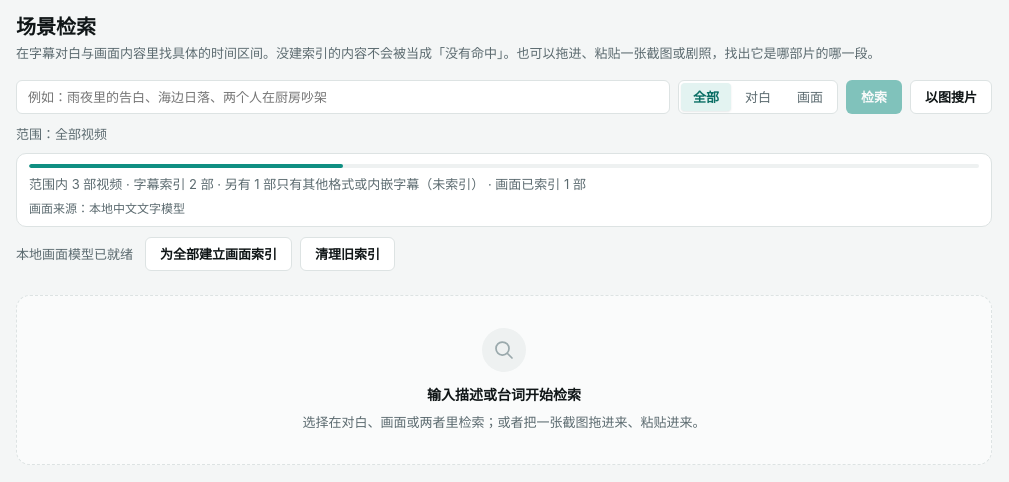
场景检索页（D-MW-SCENES） › 请求代次：晚到的旧结果直接丢弃
The image size is (1009, 482).
Step 1. Type "旧的" into the search field with test id "scenes-query" → (343, 96), box left=16, top=80, right=670, bottom=114
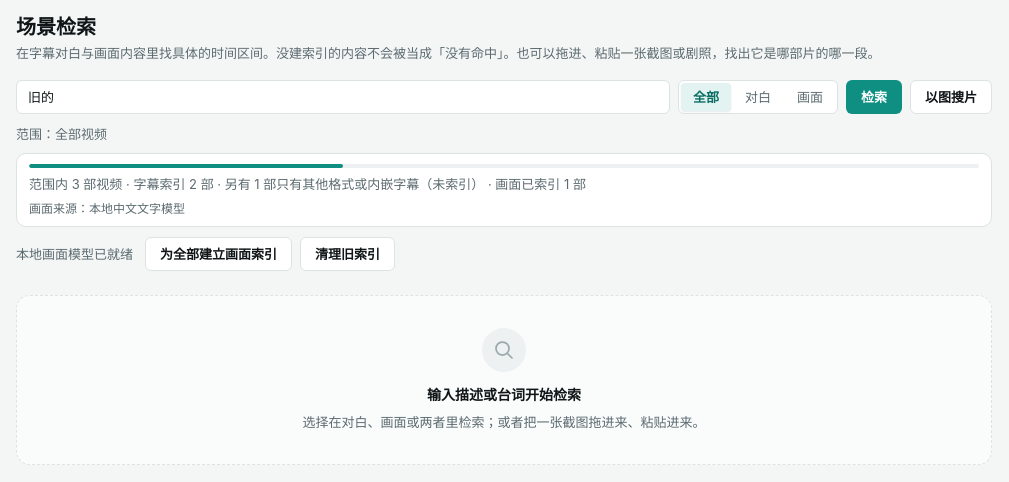
Step 2. Submit the form with test id "scenes-search-form", box left=16, top=80, right=992, bottom=114
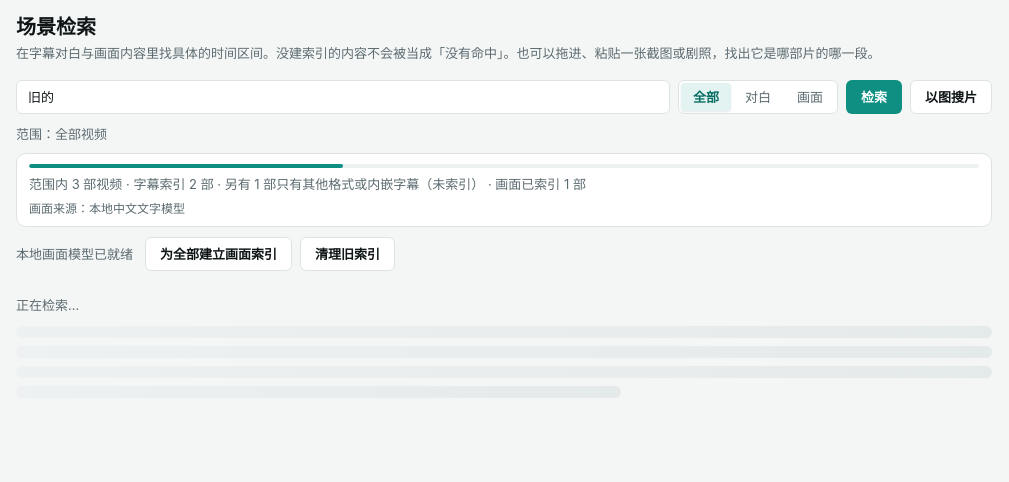
Step 3. Replace the text in the search field with test id "scenes-query" with "新的" → (343, 96), box left=16, top=80, right=670, bottom=114
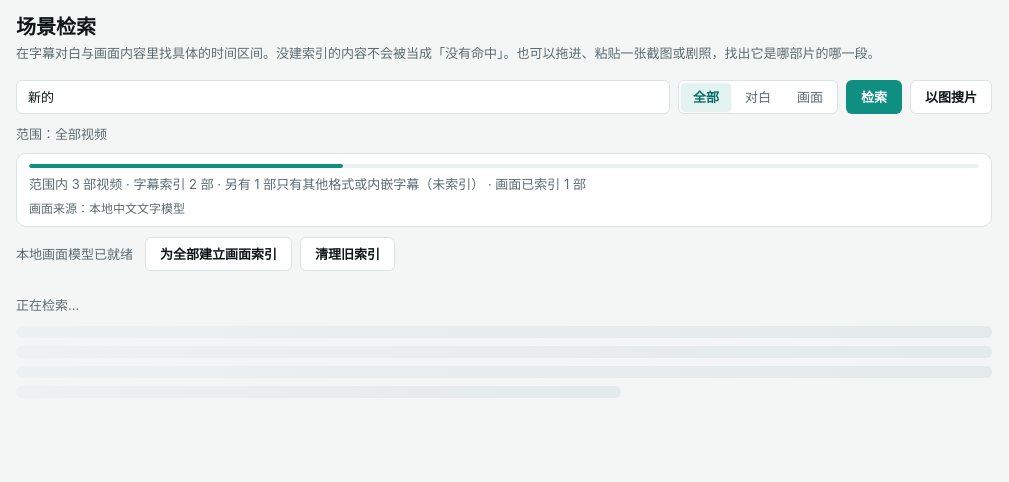
Step 4. Submit the form with test id "scenes-search-form", box left=16, top=80, right=992, bottom=114
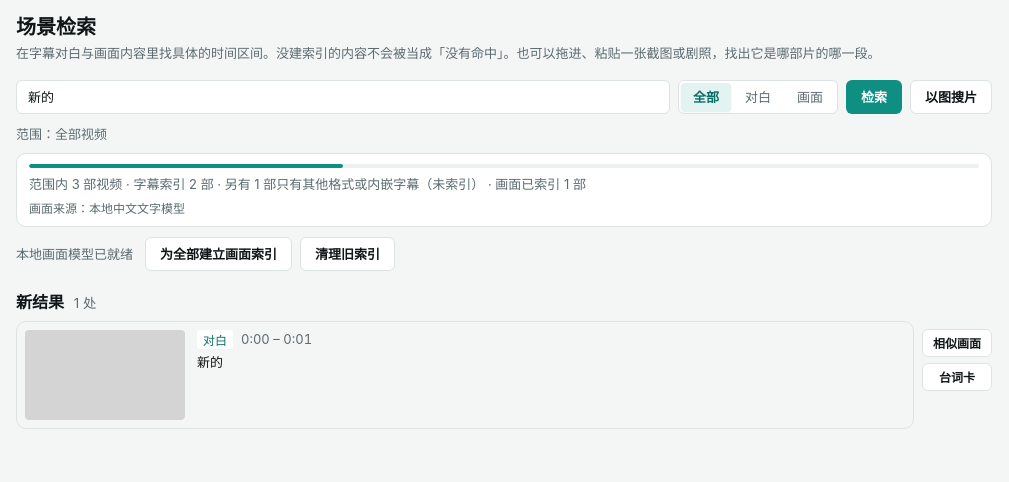
Result: the element with test id "scenes-group-2" is shown at left=16, top=288, right=992, bottom=434
